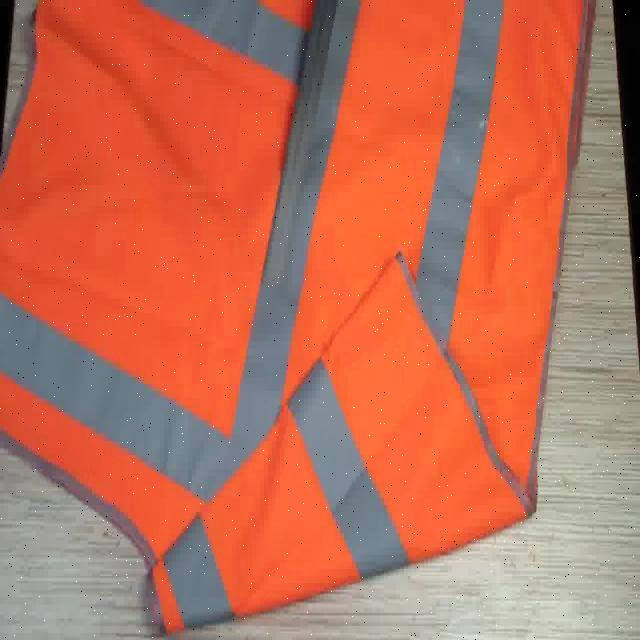Vest: (3, 5, 299, 614)
